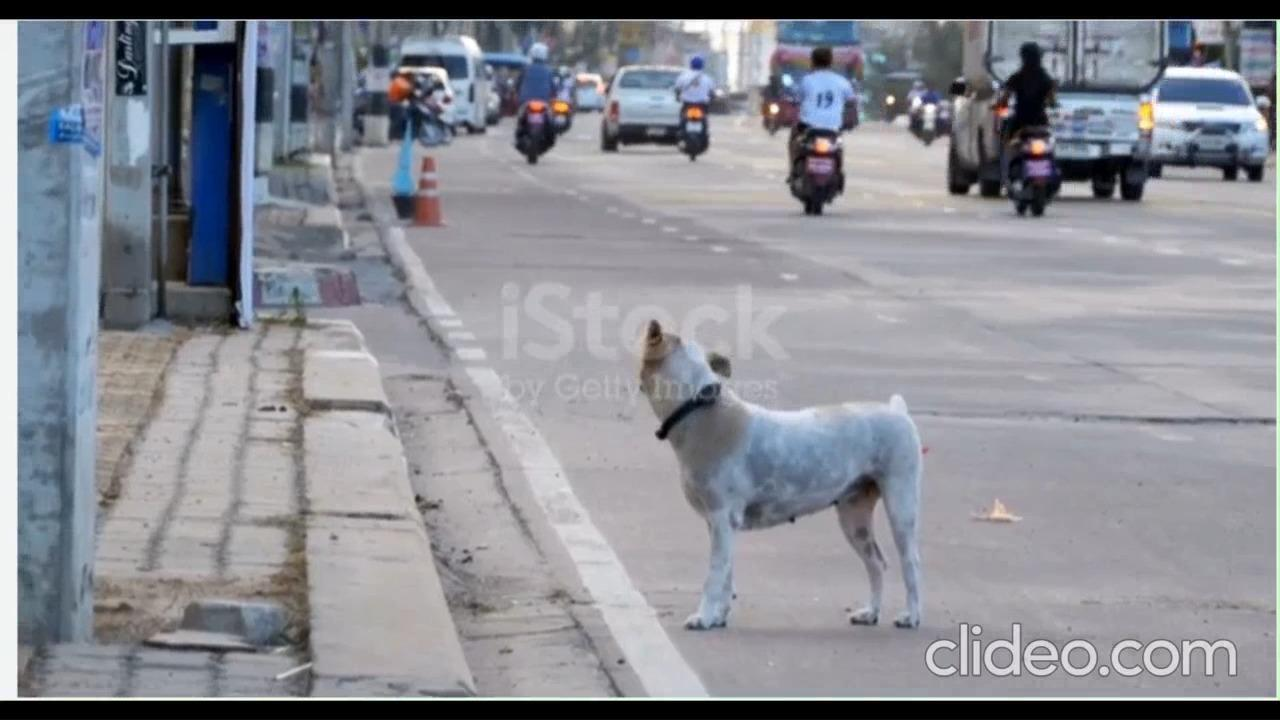dog: (636, 308, 935, 624)
